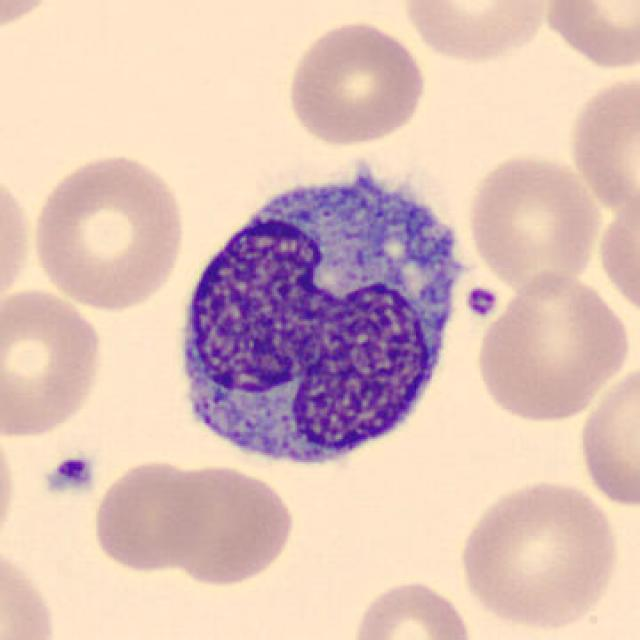Monocyte: (163, 155, 473, 481)
Platelets: (42, 450, 98, 497), (462, 282, 502, 321)
RBC: (453, 474, 624, 633), (27, 148, 190, 314), (469, 266, 635, 427), (462, 150, 604, 293), (283, 16, 430, 148), (156, 460, 297, 589), (0, 284, 107, 441), (89, 455, 211, 575), (564, 68, 638, 218), (398, 0, 555, 65), (574, 362, 640, 512), (346, 576, 478, 640), (538, 0, 640, 74), (594, 174, 638, 324), (0, 541, 60, 639), (0, 162, 34, 318), (0, 421, 21, 557), (0, 0, 66, 39)
